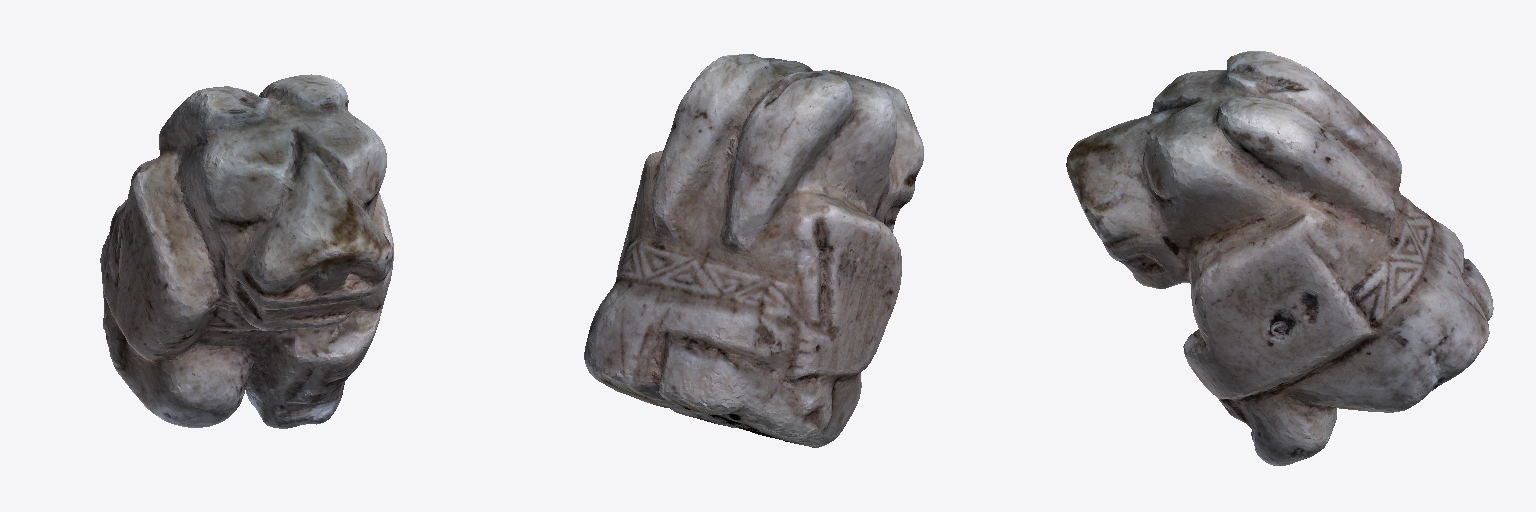
The picture shows the model from 3 angles: view 1: azimuth 30°, elevation 25°; view 2: azimuth 150°, elevation 25°; view 3: azimuth 270°, elevation 25°; orthographic projection.
Visible parts, largest first — view 1: mmGroup0; view 2: mmGroup0; view 3: mmGroup0.
Boxes of the visible parts, <box> form: mmGroup0: <box>100,74,393,428</box>; mmGroup0: <box>584,54,923,447</box>; mmGroup0: <box>1066,51,1493,465</box>.
Bounding box in the file's own units: 1.38 × 2.06 × 2.24.
Materials: 1 (1 with a texture image).